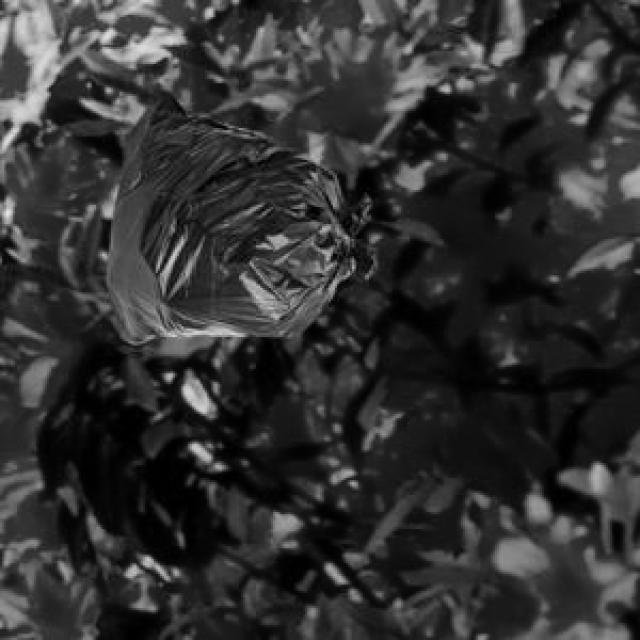miscellaneous trash: (102, 90, 373, 339)
